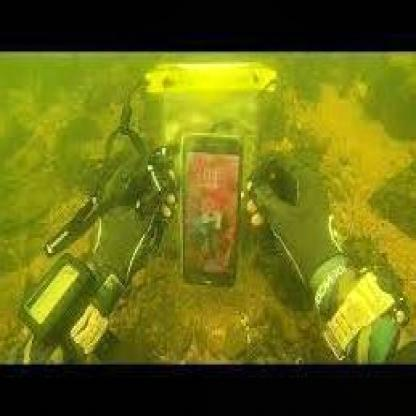cellphone: (178, 130, 242, 289)
